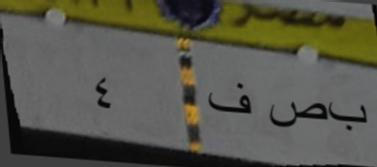4: (89, 72, 117, 115)
baa: (328, 93, 372, 134)
faa: (202, 77, 253, 124)
saad: (263, 86, 329, 134)
